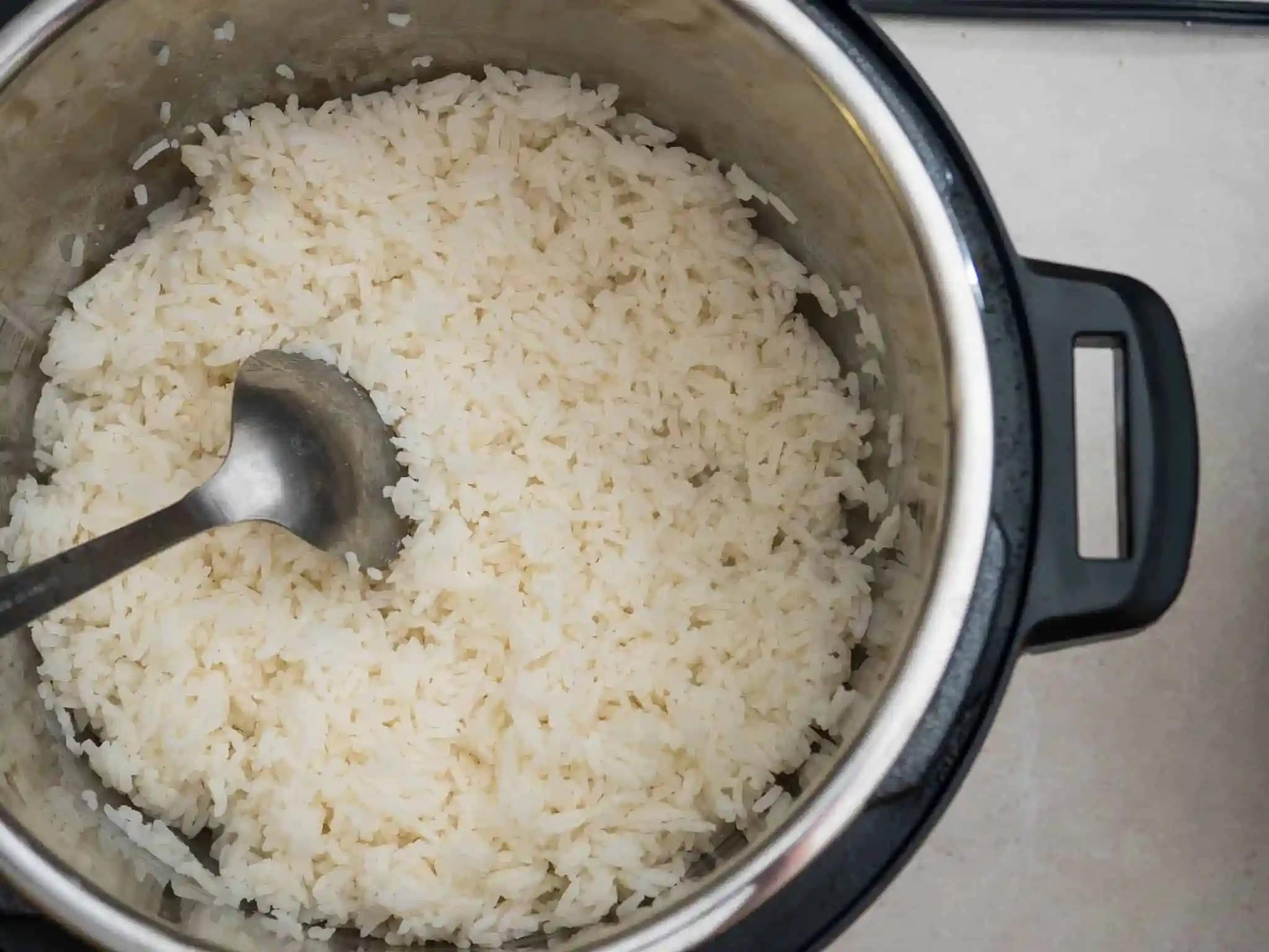WhiteRice: (7, 60, 883, 952)
